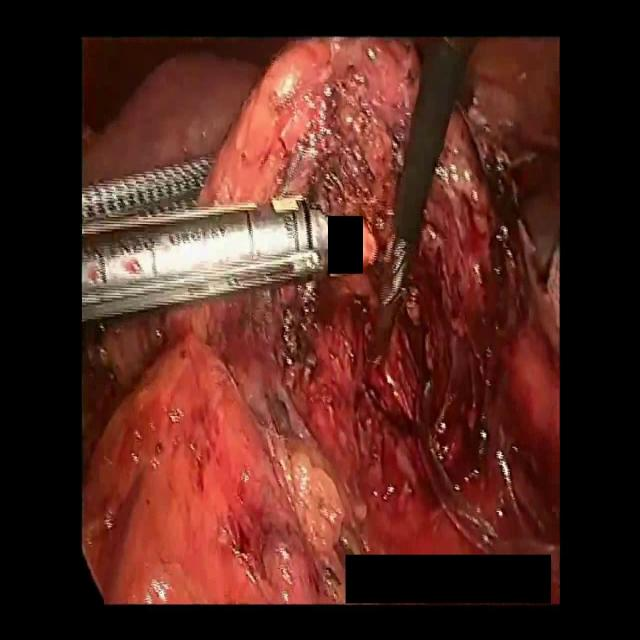surgical-area: (82, 38, 560, 605)
surgical-tool: (82, 153, 329, 318)
